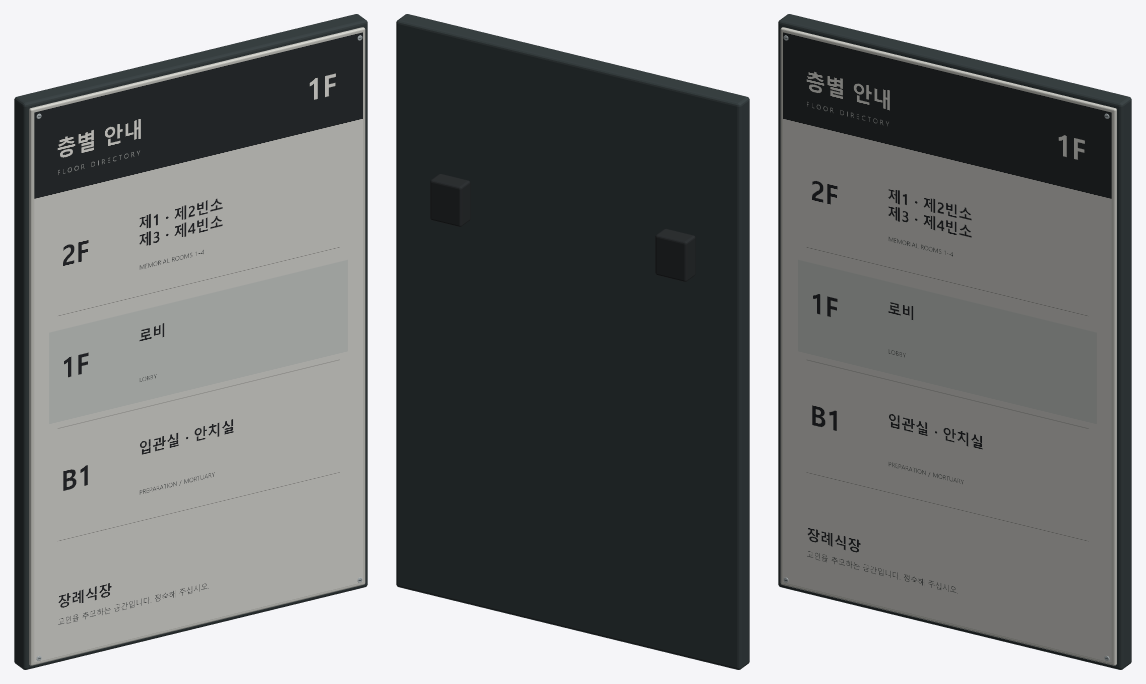
Rendered from Floor_Directory_1F.fbx.
The picture shows the model from 3 angles, left to right: view 1: azimuth 30°, elevation 25°; view 2: azimuth 150°, elevation 25°; view 3: azimuth 330°, elevation 25°; orthographic projection.
Parts seen in each view (by area): view 1: Floor_Directory_1F; view 2: Floor_Directory_1F; view 3: Floor_Directory_1F.
Part boxes in pixels (left/top/right/bottom): Floor_Directory_1F: left=14, top=14, right=367, bottom=669; Floor_Directory_1F: left=396, top=14, right=749, bottom=669; Floor_Directory_1F: left=778, top=14, right=1131, bottom=669.
Bounding box in the file's own units: 0.49 × 0.77 × 0.0593.
Materials: 5 (1 with a texture image).
